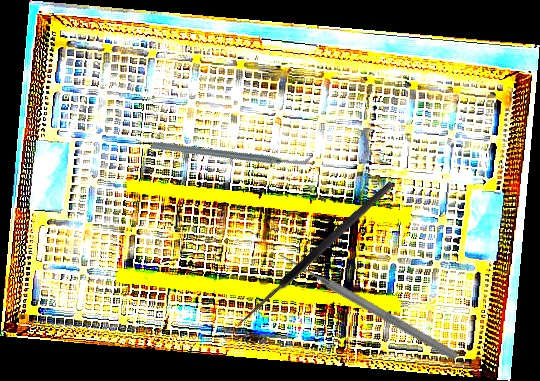Chopper: (150, 83, 313, 221)
Hook Surgical: (233, 178, 402, 339)
Pusher: (276, 248, 460, 363)
